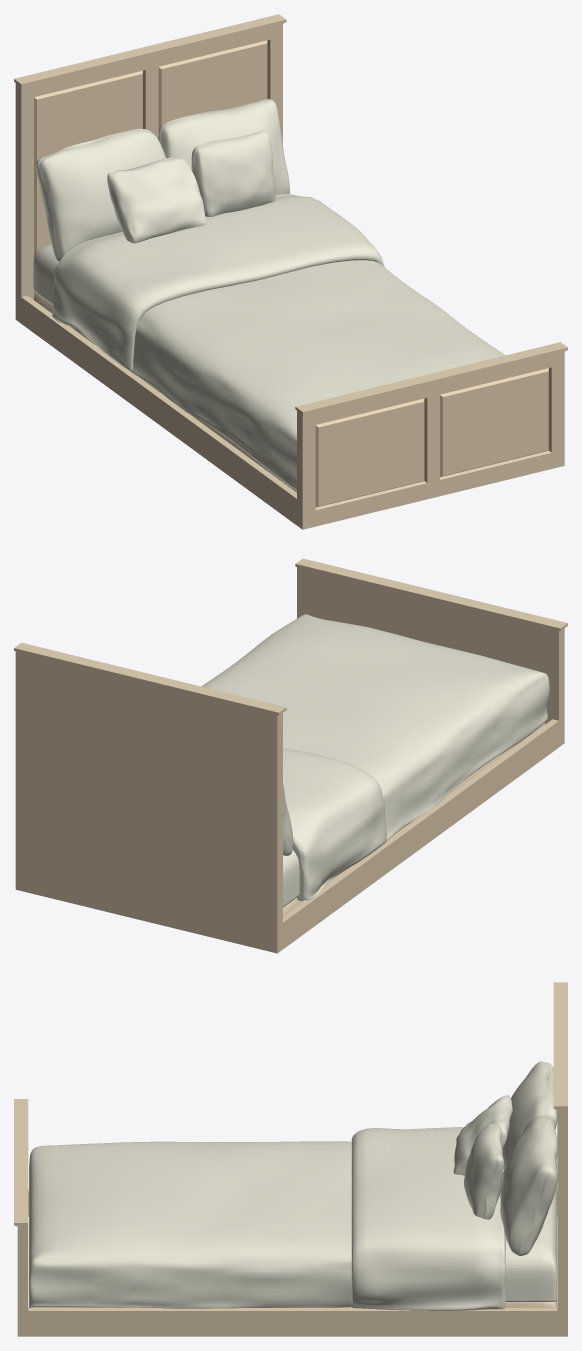
File: twinbed.fbx
3 views of the same model, one above another, from view 1: azimuth 30°, elevation 25°; view 2: azimuth 150°, elevation 25°; view 3: azimuth 270°, elevation 25° (orthographic). The views are drawn at different scales.
Parts seen in each view (by area): view 1: Box5161, Box5157, Box5158, Box5156, Box5160, Box5165, Box5164, Box5163, Box5159; view 2: Box5158, Box5161, Box5157, Box5156, Box5159, Box5162; view 3: Box5161, Box5155, Box5163, Box5158, Box5159, Box5157, Box5164, Box5160, Box5165.
Part boxes in pixels (x1,y1,x2,y2): Box5161: (52,193,505,490); Box5157: (295,342,567,529); Box5158: (14,14,286,322); Box5156: (20,295,296,525); Box5160: (36,128,166,261); Box5165: (107,157,206,243); Box5164: (191,130,275,216); Box5163: (158,99,289,194); Box5159: (33,243,58,304); Box5158: (14,642,286,953); Box5161: (202,614,549,901); Box5157: (295,558,567,746); Box5156: (282,719,558,949); Box5159: (283,849,299,907); Box5162: (283,723,544,916); Box5161: (29,1127,505,1310); Box5155: (28,1308,558,1336); Box5163: (500,1116,557,1255); Box5158: (553,982,567,1336); Box5159: (29,1160,556,1301); Box5157: (14,1099,28,1336); Box5164: (464,1123,503,1219); Box5160: (502,1061,557,1170); Box5165: (453,1095,512,1175).
Size of the model in its own units: 701 by 607 by 1319.
